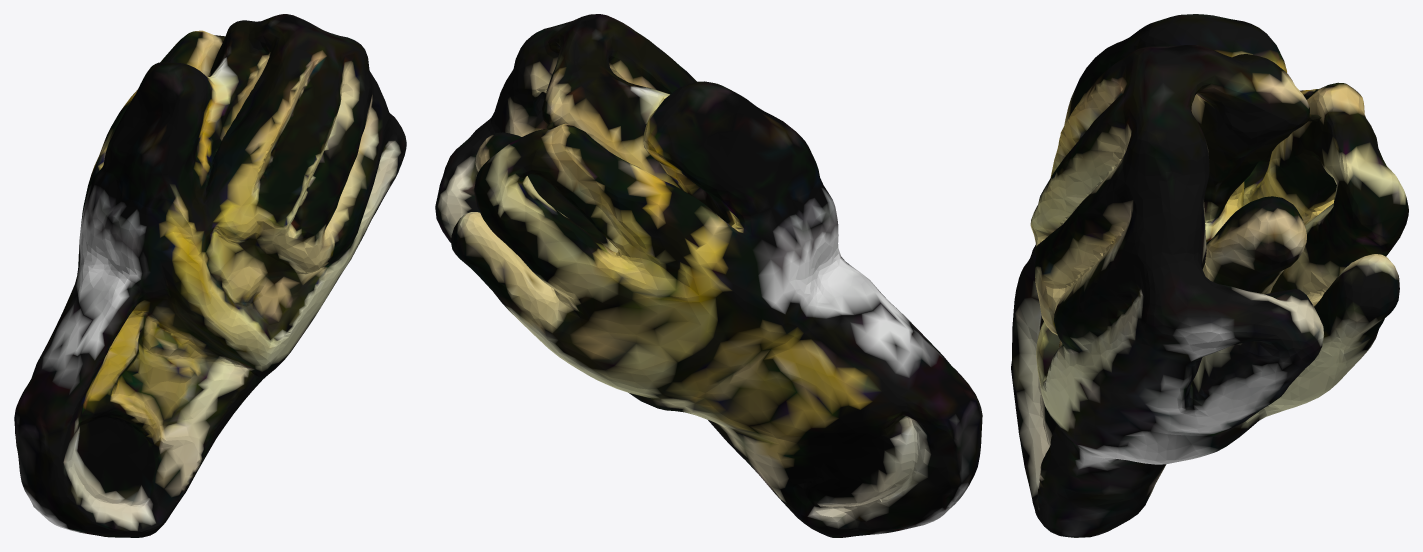
Rendered from b_gauntlet_s.glb.
3 views of the same model, side by side, from view 1: azimuth 30°, elevation 25°; view 2: azimuth 150°, elevation 25°; view 3: azimuth 270°, elevation 25° (orthographic). The views are drawn at different scales.
Visible parts, largest first — view 1: geometry_0; view 2: geometry_0; view 3: geometry_0.
Part boxes in pixels (box(x1,y1,x2,y2)): geometry_0: box(14, 14, 406, 537); geometry_0: box(435, 14, 982, 537); geometry_0: box(1011, 14, 1408, 537).
Bounding box in the file's own units: 0.5592 × 0.5625 × 0.3288.
